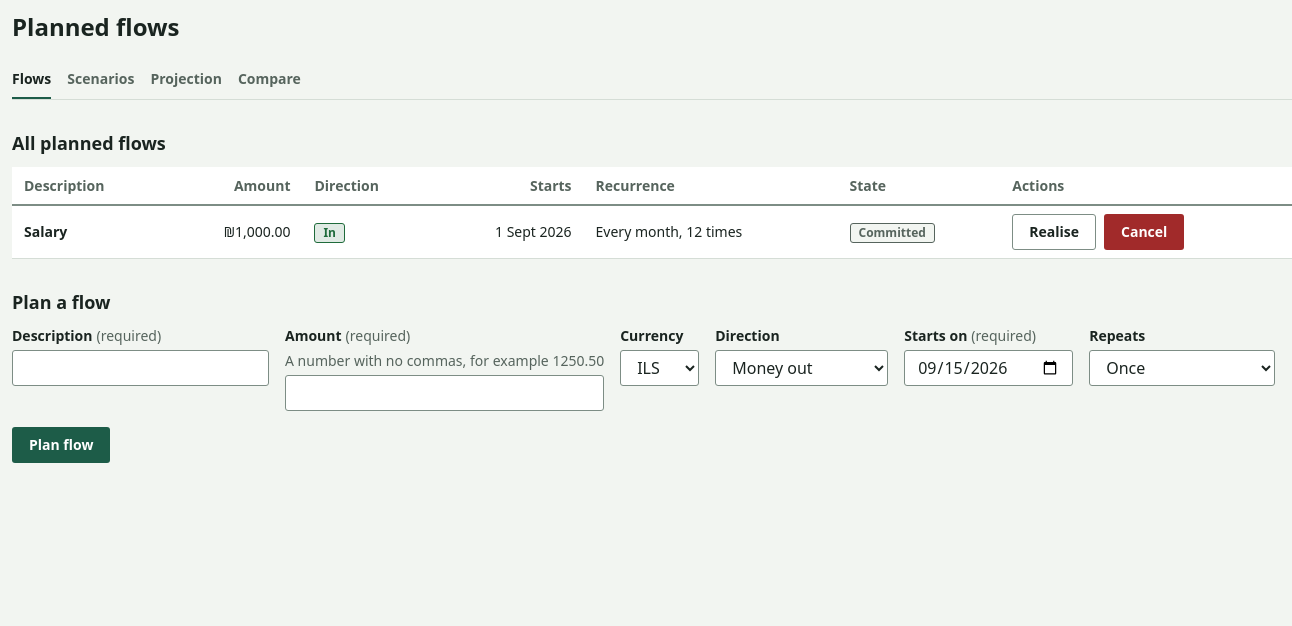
it: PlannedFlowsPage lifecycle actions › Given_a_committed_flow_When_realised_Then_it_posts_on_and_the_row_shows_the_Realised_badge_and_invalidates_flows_projections_and_comparisons
Expected: the table named "Planned flows" is shown, [12,166,1291,258]
What coordinates should you click on to do the following:
click the button "Realise"
I would click on:
 (1054, 232)
Its box is [1012,214,1096,250].
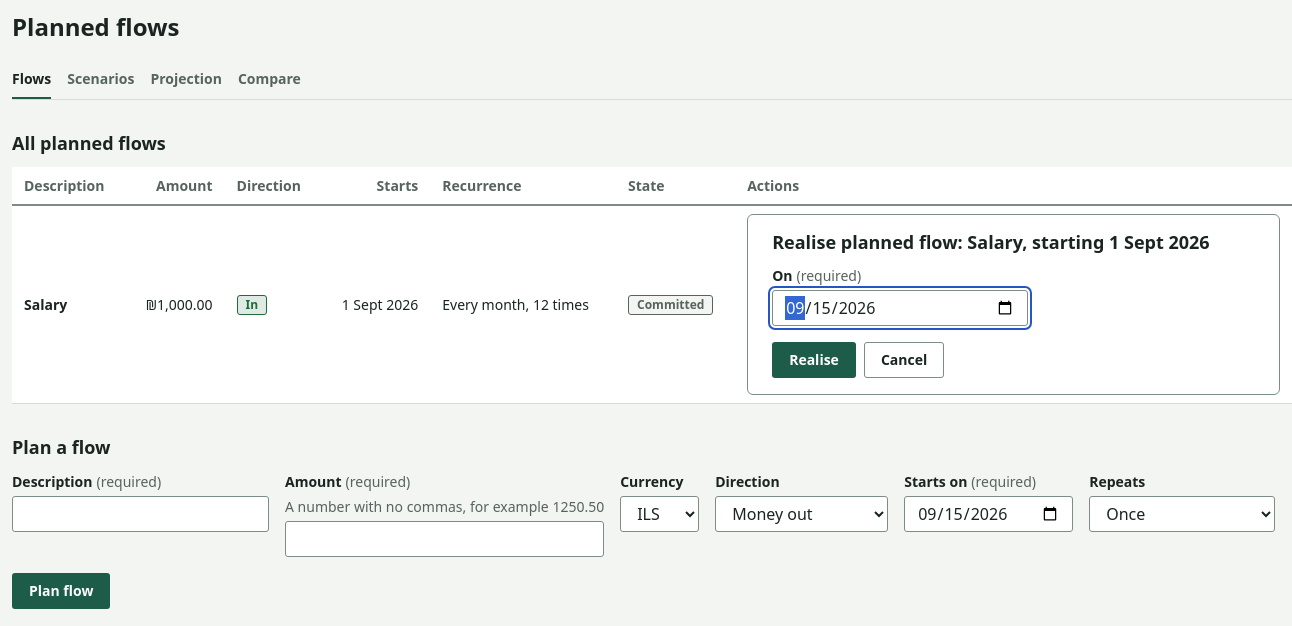
What coordinates should you click on to do the following:
click the button "Realise"
I would click on:
 (814, 360)
Its box is [772,342,856,378].
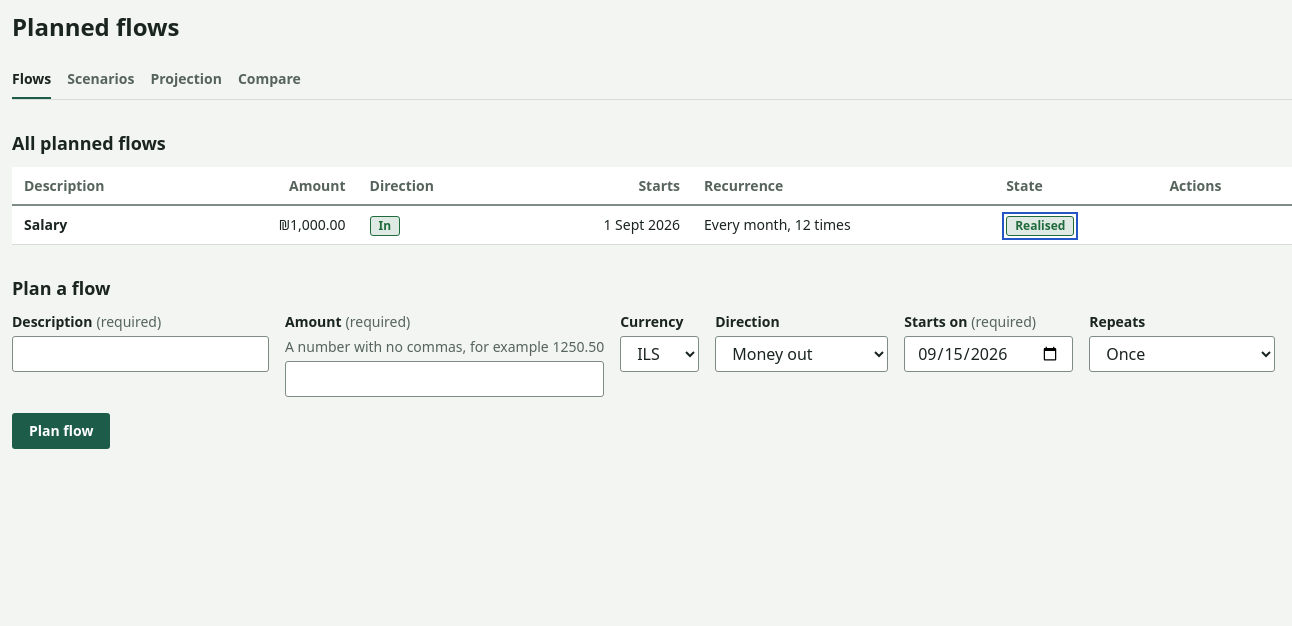
Result: the text "Realised" is shown at [1006,216,1074,236]
